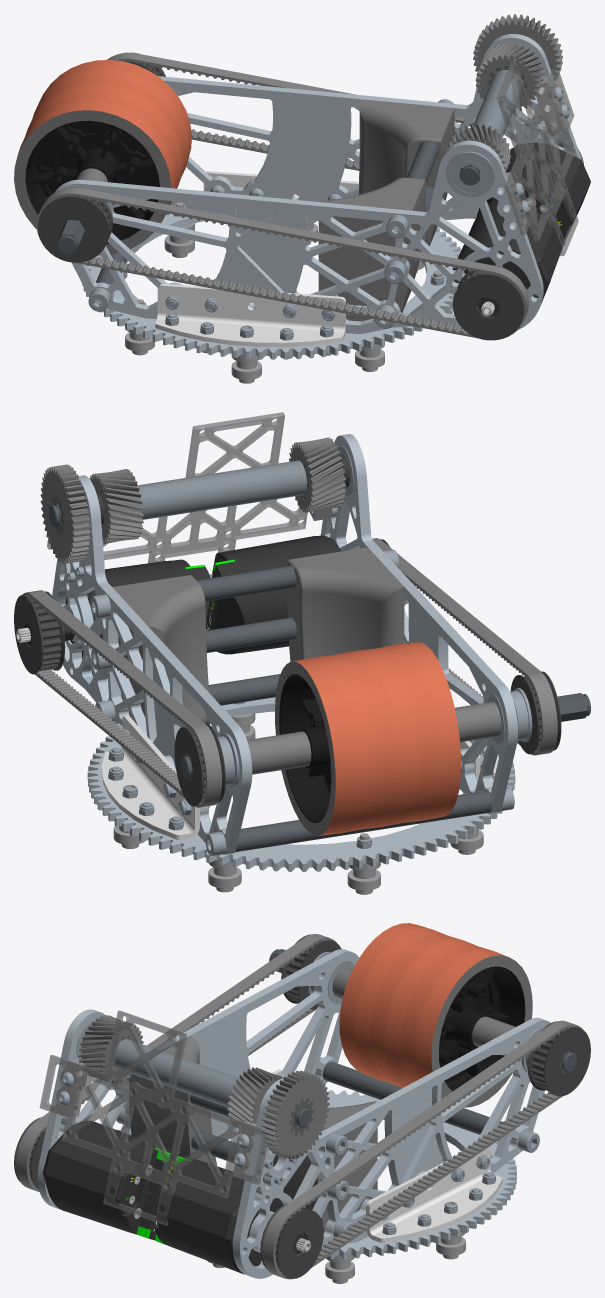
3 renders of one model, top to bottom at view 1: azimuth 30°, elevation 25°; view 2: azimuth 150°, elevation 25°; view 3: azimuth 270°, elevation 25°, orthographic. The views are drawn at different scales.
Visible parts, largest first — view 1: 0142_Left Shooter Plate, 4" OD 1/2" Hex ID Stealth Wheel 40A (am-2647) (×3), 0104_Right Shooter Plate, 135T HTD Belt (×2), 0147_Spark Plate, 0103_Folded Bracket (×2), 28T Custom Pulley (×2), 0145_Right Hood Block, 0101_Turret Gear, 0144_Left Hood Block, Kraken X60 Brushless Motor <1>, Kraken X60 Brushless Motor (+9 smaller); view 2: 4" OD 1/2" Hex ID Stealth Wheel 40A (am-2647) (×3), 0104_Right Shooter Plate, 135T HTD Belt (×2), 0142_Left Shooter Plate, 0144_Left Hood Block, 0101_Turret Gear, 0106_Tierod (×4), 0147_Spark Plate, 28T Custom Pulley (×3), 0145_Right Hood Block, 0141_Hood Gear Shaft Spacer, Kraken X60 Brushless Motor (+9 smaller); view 3: 4" OD 1/2" Hex ID Stealth Wheel 40A (am-2647) (×3), 0104_Right Shooter Plate, 0147_Spark Plate, 0142_Left Shooter Plate, 135T HTD Belt (×2), Kraken X60 Brushless Motor, Kraken X60 Brushless Motor <1>, 28T Custom Pulley (×4), 0144_Left Hood Block, 0103_Folded Bracket, 0101_Turret Gear, 0112_Top Shaft Gear (+8 smaller).
Part boxes in pixels (left/top/right/bottom): 0142_Left Shooter Plate: left=54, top=140, right=543, bottom=333; 4" OD 1/2" Hex ID Stealth Wheel 40A (am-2647) (×3): left=14, top=60, right=191, bottom=255; 0104_Right Shooter Plate: left=158, top=34, right=582, bottom=220; 135T HTD Belt (×2): left=36, top=52, right=583, bottom=338; 0147_Spark Plate: left=496, top=60, right=578, bottom=256; 0103_Folded Bracket (×2): left=155, top=171, right=358, bottom=347; 28T Custom Pulley (×2): left=37, top=187, right=524, bottom=340; 0145_Right Hood Block: left=358, top=99, right=454, bottom=245; 0101_Turret Gear: left=82, top=213, right=460, bottom=359; 0144_Left Hood Block: left=318, top=177, right=425, bottom=321; Kraken X60 Brushless Motor <1>: left=476, top=142, right=590, bottom=240; Kraken X60 Brushless Motor: left=452, top=199, right=564, bottom=316; 4" OD 1/2" Hex ID Stealth Wheel 40A (am-2647) (×3): left=275, top=642, right=460, bottom=835; 0104_Right Shooter Plate: left=52, top=475, right=252, bottom=854; 135T HTD Belt (×2): left=22, top=538, right=557, bottom=807; 0142_Left Shooter Plate: left=320, top=434, right=517, bottom=813; 0144_Left Hood Block: left=287, top=547, right=404, bottom=661; 0101_Turret Gear: left=87, top=697, right=515, bottom=871; 0106_Tierod (×4): left=196, top=565, right=491, bottom=852; 0147_Spark Plate: left=47, top=412, right=307, bottom=577; 28T Custom Pulley (×3): left=14, top=591, right=561, bottom=806; 0145_Right Hood Block: left=112, top=575, right=210, bottom=724; 0141_Hood Gear Shaft Spacer: left=137, top=460, right=306, bottom=519; Kraken X60 Brushless Motor: left=206, top=535, right=341, bottom=654; 4" OD 1/2" Hex ID Stealth Wheel 40A (am-2647) (×3): left=339, top=923, right=532, bottom=1107; 0104_Right Shooter Plate: left=232, top=1017, right=550, bottom=1278; 0147_Spark Plate: left=39, top=1010, right=268, bottom=1225; 0142_Left Shooter Plate: left=37, top=949, right=358, bottom=1209; 135T HTD Belt (×2): left=16, top=934, right=582, bottom=1279; Kraken X60 Brushless Motor: left=42, top=1121, right=182, bottom=1239; Kraken X60 Brushless Motor <1>: left=154, top=1155, right=310, bottom=1274; 28T Custom Pulley (×4): left=14, top=934, right=590, bottom=1278; 0144_Left Hood Block: left=129, top=1035, right=216, bottom=1165; 0103_Folded Bracket: left=366, top=1146, right=502, bottom=1242; 0101_Turret Gear: left=327, top=1090, right=516, bottom=1259; 0112_Top Shaft Gear: left=261, top=1070, right=329, bottom=1159.
Size of the model in its own units: 0.3813 by 0.1822 by 0.367.
